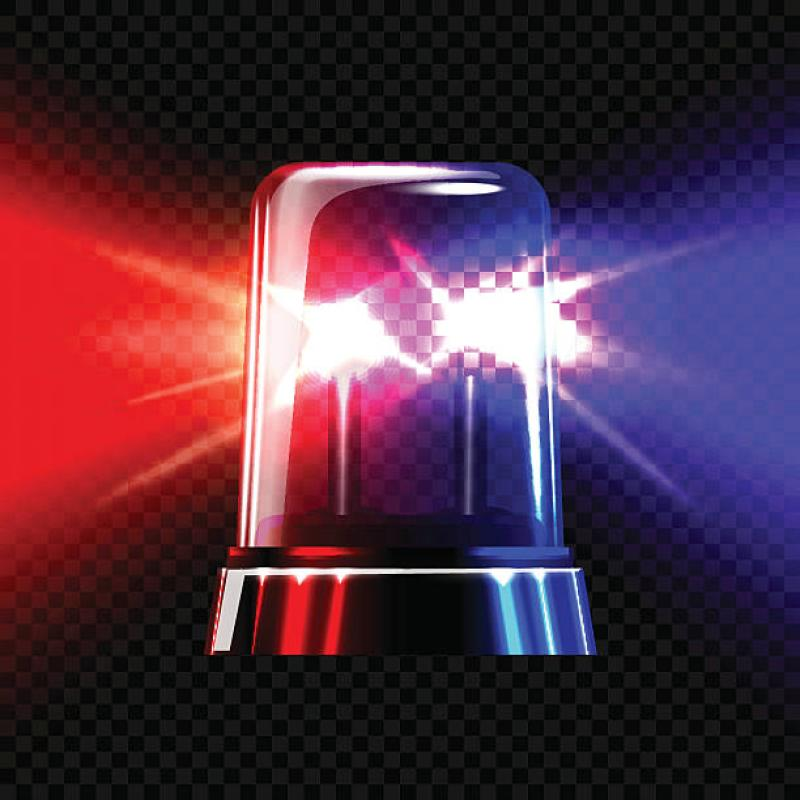AmbulanceSiren: (180, 86, 592, 677)
